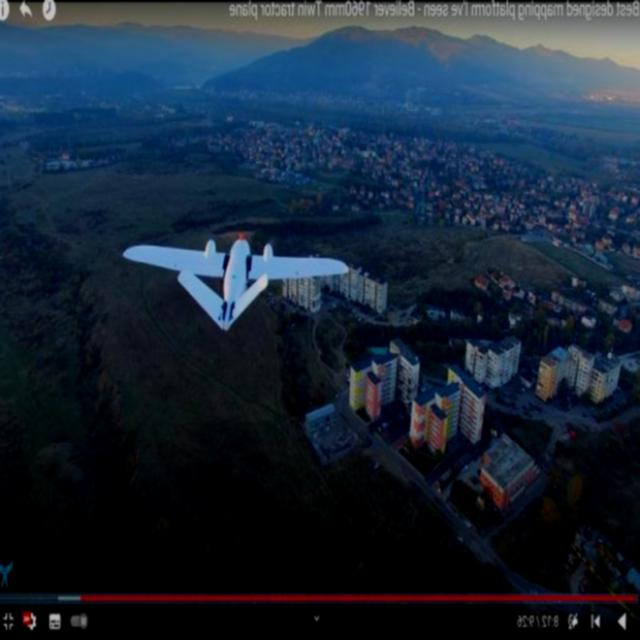plane: (122, 230, 351, 332)
